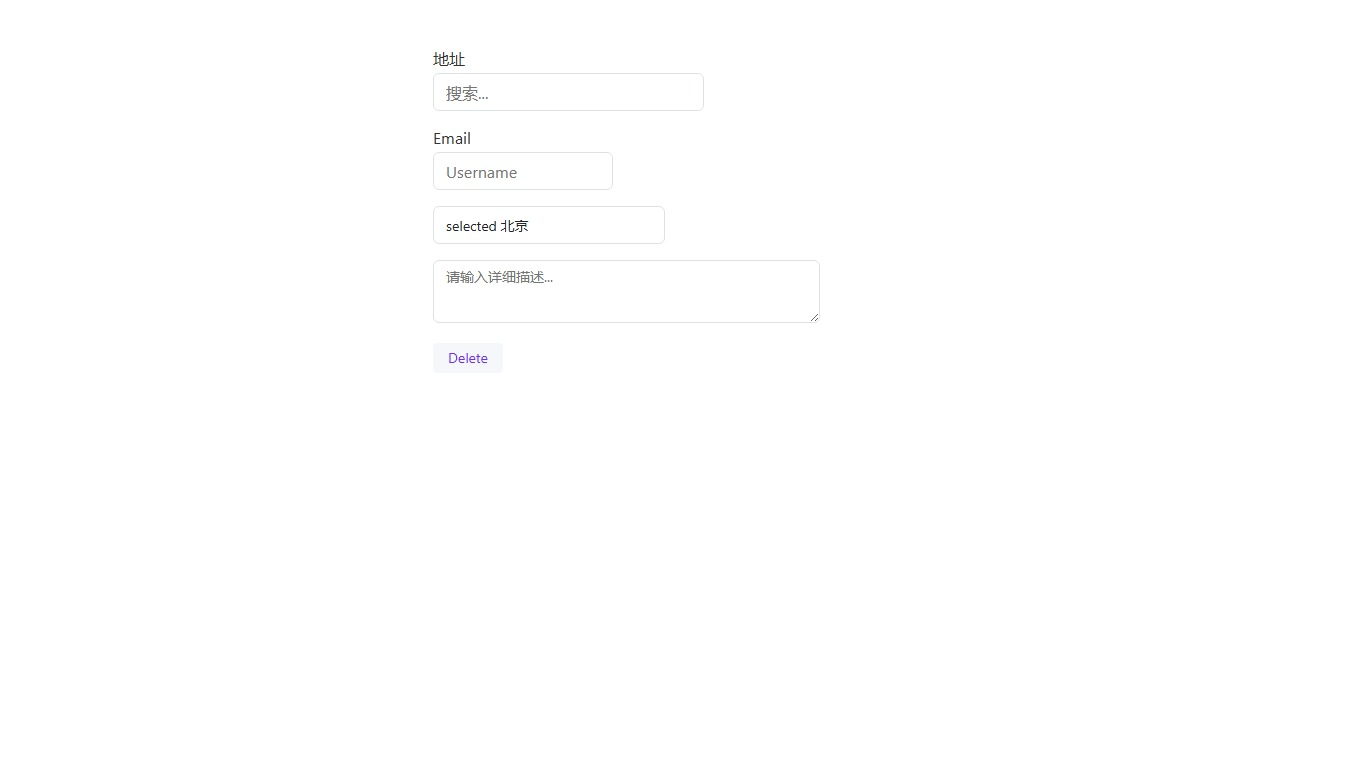button: (433, 343, 503, 373)
input: (433, 73, 704, 111), (433, 152, 613, 190)
select: (433, 206, 665, 244)
textarea: (433, 260, 820, 323)
